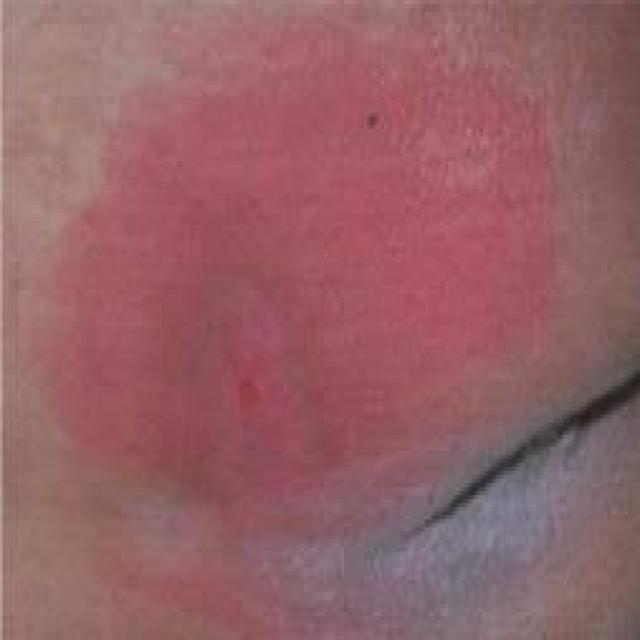stage-1: (41, 31, 565, 544)
